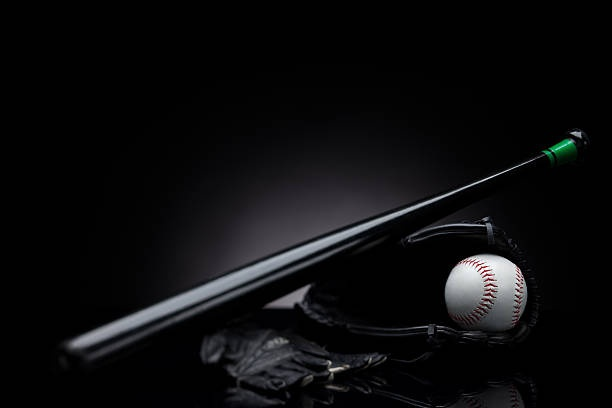bita: (68, 132, 580, 371)
